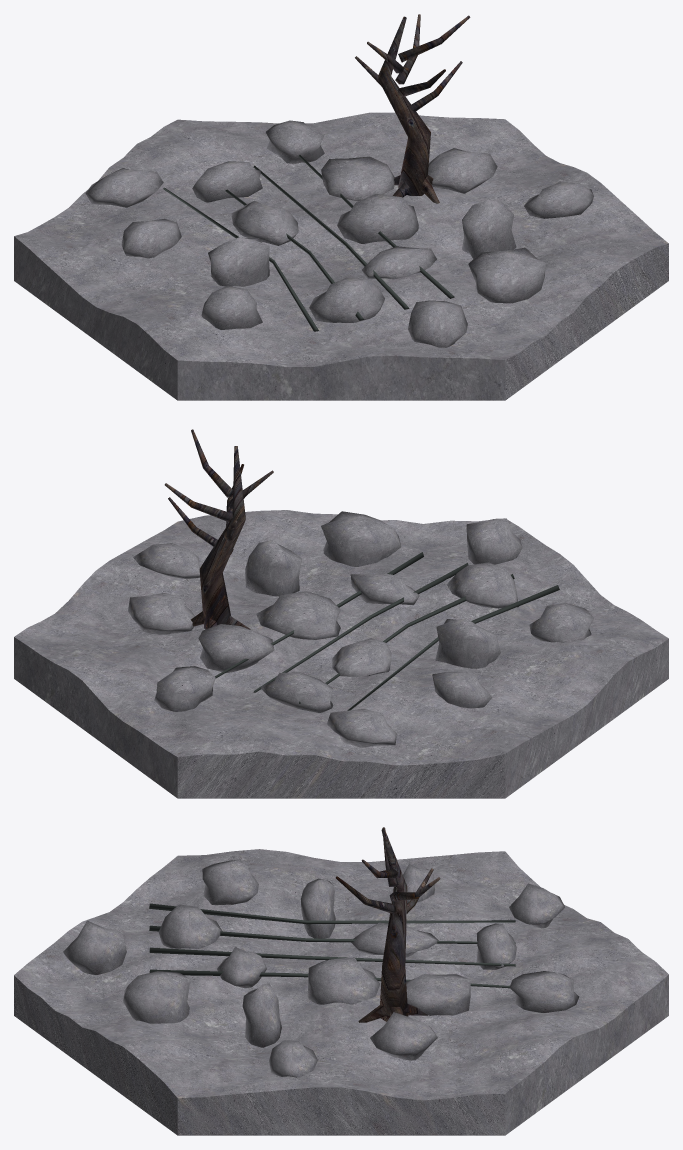
File: env-terrain-wasteland.glb
3 views of the same model, one above another, from view 1: azimuth 30°, elevation 25°; view 2: azimuth 150°, elevation 25°; view 3: azimuth 270°, elevation 25° (orthographic).
Visible parts, largest first — view 1: terrain wasteland · authored textured miniature; view 2: terrain wasteland · authored textured miniature; view 3: terrain wasteland · authored textured miniature.
Boxes of the visible parts, x1=… form: terrain wasteland · authored textured miniature: x1=14, y1=14, x2=668, y2=400; terrain wasteland · authored textured miniature: x1=14, y1=429, x2=668, y2=798; terrain wasteland · authored textured miniature: x1=14, y1=827, x2=668, y2=1135.
Size of the model in its own units: 1.63 by 0.7216 by 1.88.
Materials: 3 (2 with a texture image).
